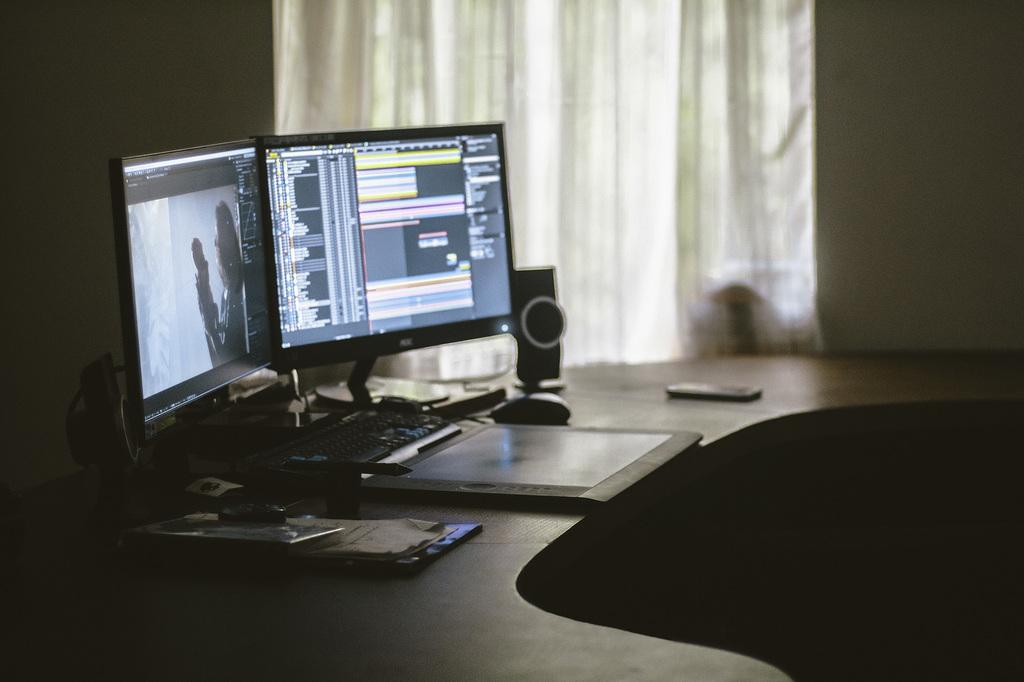Computer-keyboard: (234, 405, 459, 493)
Computer-monitor: (219, 132, 512, 418), (93, 123, 283, 475)
